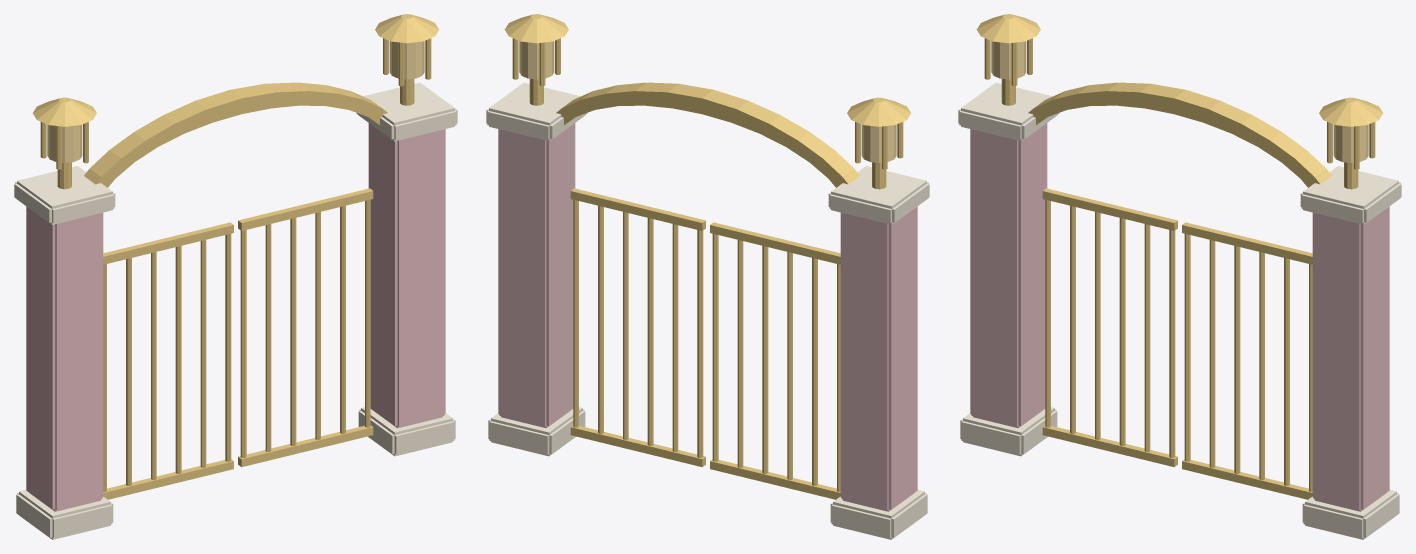
The model's file is HOB_Gate.fbx.
3 renders of one model, left to right at view 1: azimuth 30°, elevation 25°; view 2: azimuth 150°, elevation 25°; view 3: azimuth 330°, elevation 25°, orthographic.
Parts seen in each view (by area): view 1: HOB_Gate; view 2: HOB_Gate; view 3: HOB_Gate.
Part boxes in pixels (x1=…): HOB_Gate: x1=14, y1=14, x2=457, y2=539; HOB_Gate: x1=486, y1=14, x2=929, y2=539; HOB_Gate: x1=958, y1=14, x2=1401, y2=539.
Bounding box in the file's own units: 322 × 317 × 52.
